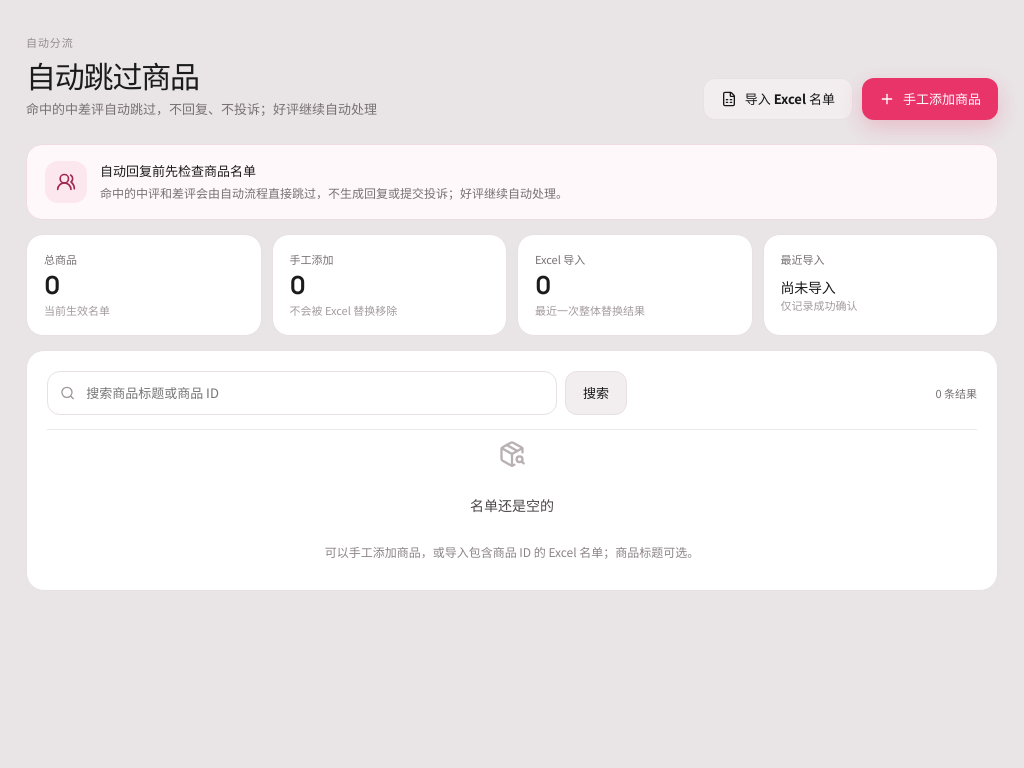
Scenario: manual product workspace › opens the Windows picker from the primary action and shows its preview immediately
expect the text "名单还是空的" is shown: met, box [470,495,554,515]
Step 1. Click the button "导入 Excel 名单" → (778, 99), box [703,78,853,120]
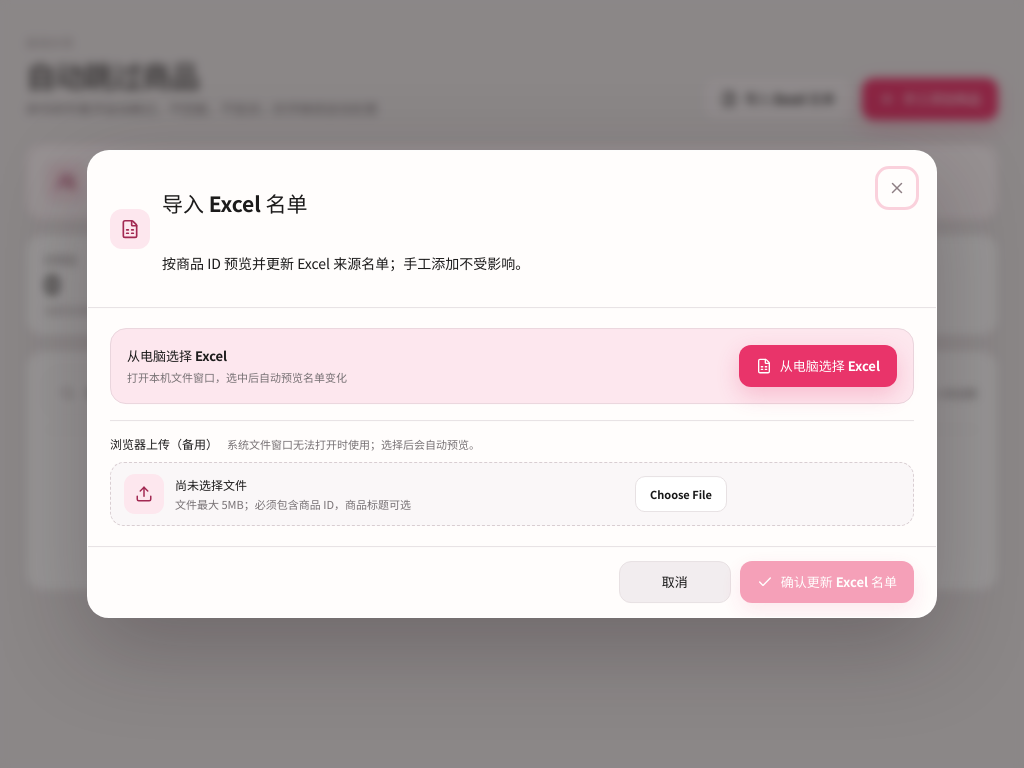
Step 2. Click the button "从电脑选择 Excel" → (818, 366), box [739,345,897,387]
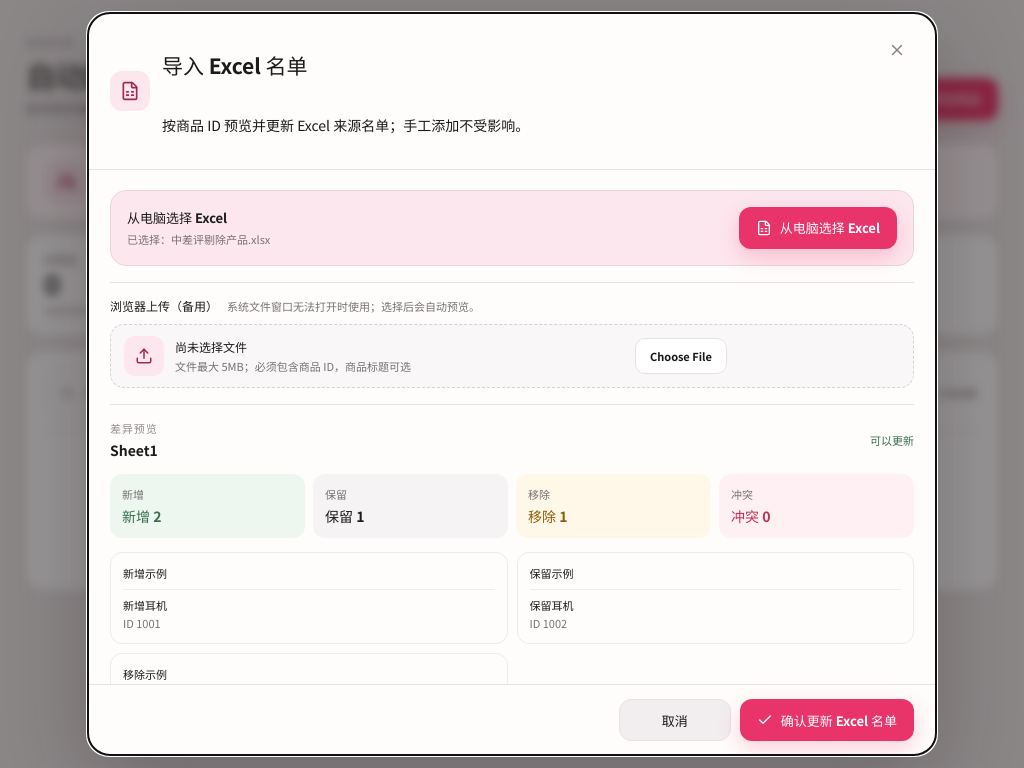
expect the text "已选择：中差评剔除产品.xlsx" is shown: met, box [127,231,270,247]
expect the element named "Excel 名单变化预览" shows "新增 2": met, box [110,404,914,684]
expect the button "确认更新 Excel 名单" is enabled: met, box [740,699,914,741]
